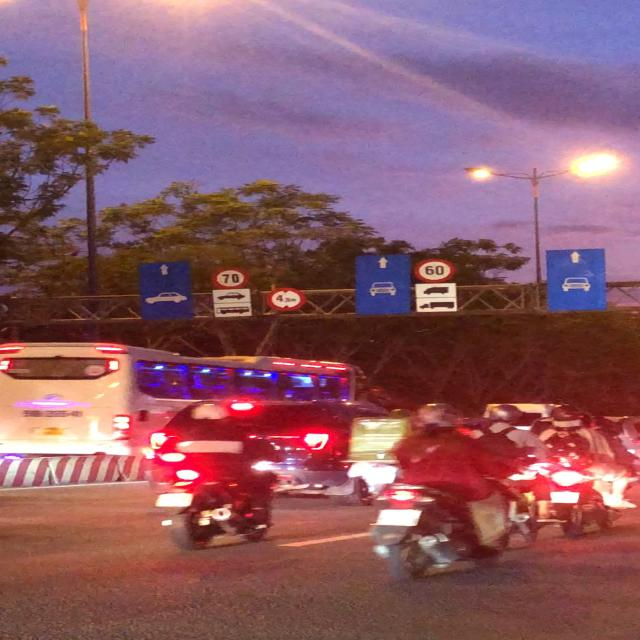Bien bao han che chieu cao: (262, 285, 308, 313)
Bien bao toc do toi da cho phep: (409, 256, 460, 286), (207, 266, 250, 291)
